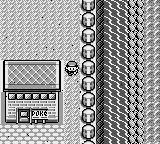captura: (103, 0, 128, 143)
main: (65, 61, 79, 76)
mo: (96, 0, 104, 144)
no-caminable: (128, 0, 160, 144), (4, 60, 61, 123), (80, 0, 96, 143)
puerta: (18, 109, 30, 123)
